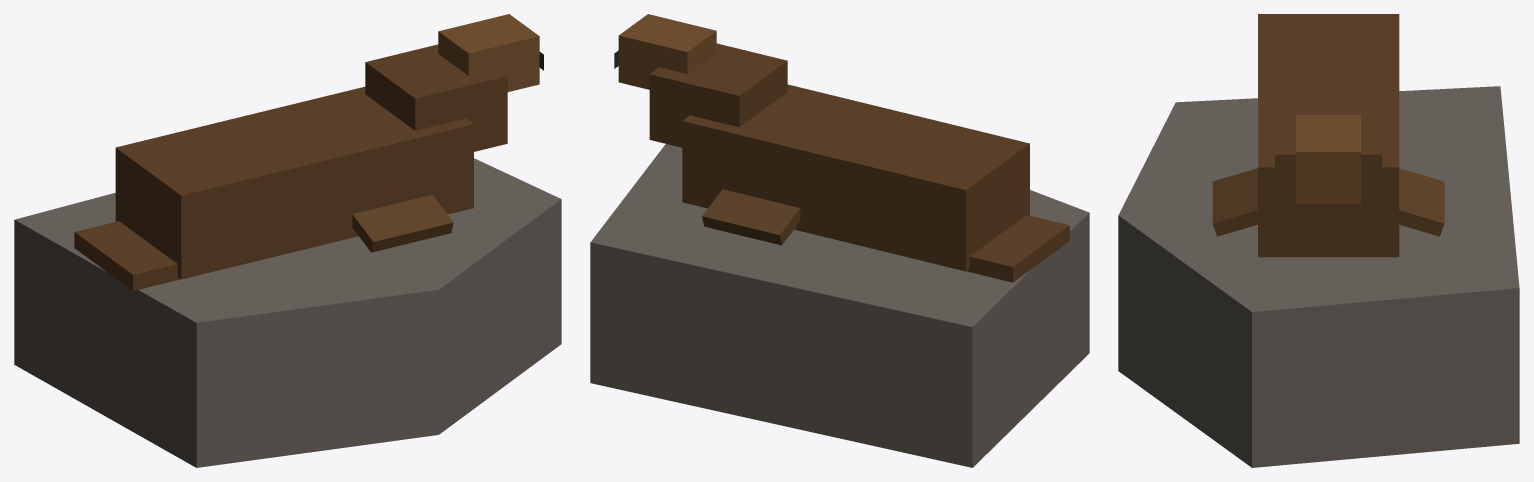
Rendered from foca_roca.obj.
The picture shows the model from 3 angles, left to right: view 1: azimuth 30°, elevation 25°; view 2: azimuth 150°, elevation 25°; view 3: azimuth 270°, elevation 25°; orthographic projection. The views are drawn at different scales.
Visible parts, largest first — view 1: foca_roca; view 2: foca_roca; view 3: foca_roca.
Boxes of the visible parts, x1=… form: foca_roca: x1=14, y1=14, x2=561, y2=467; foca_roca: x1=590, y1=14, x2=1089, y2=467; foca_roca: x1=1118, y1=14, x2=1519, y2=467.
Size of the model in its own units: 2.86 by 1.82 by 2.1.
